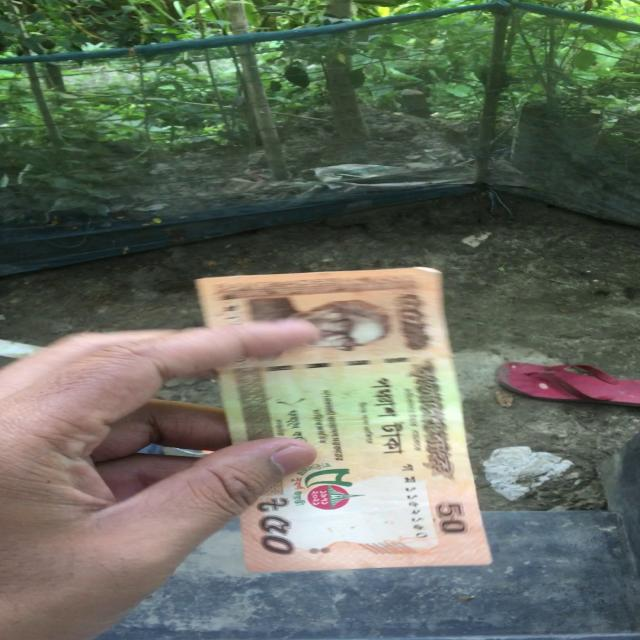Taka: (200, 274, 489, 561)
